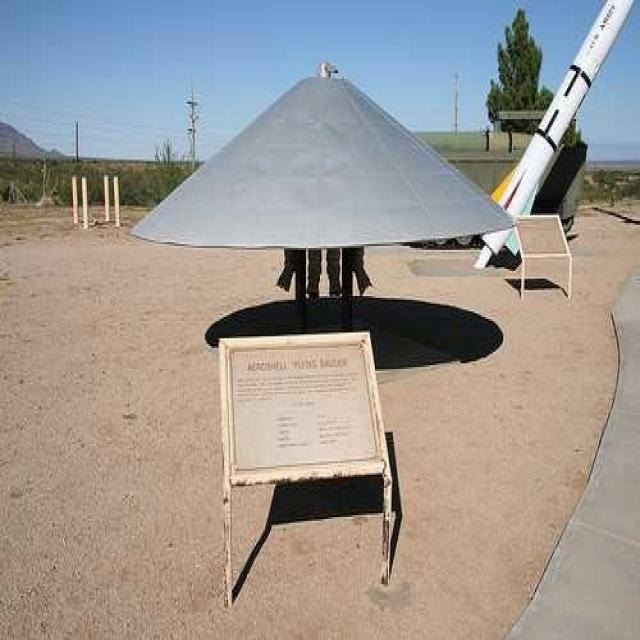missile: (474, 2, 640, 276)
